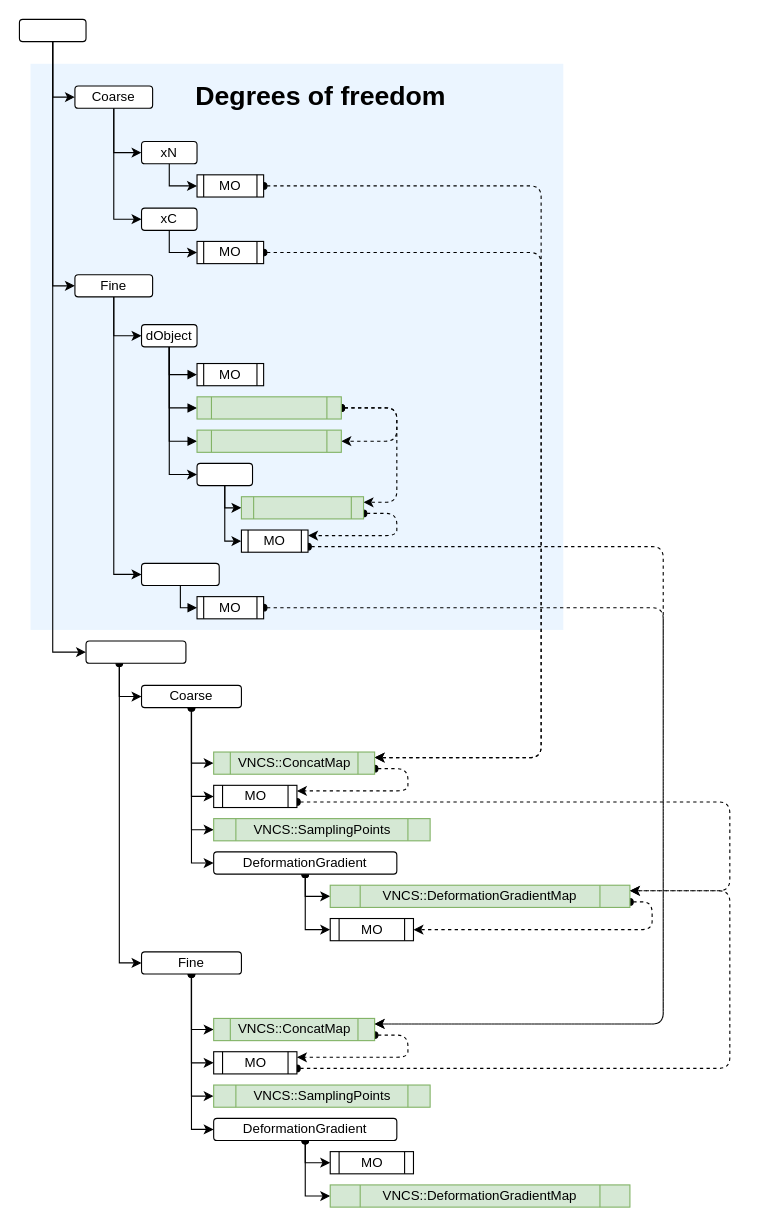
Image size: 759x1227. Some labels were removed from this diagram. Here are the shapes that lost their labels. From the top down, the centre of each, then its label:
At point (52, 30): "Root".
At point (268, 407): "VNCS::Clustering".
At point (268, 440): "VNCS::Projection".
At point (224, 474): "uf".
At point (302, 507): "VNCS::UfMap".
At point (179, 574): "pSObject".
At point (135, 651): "Energies".
